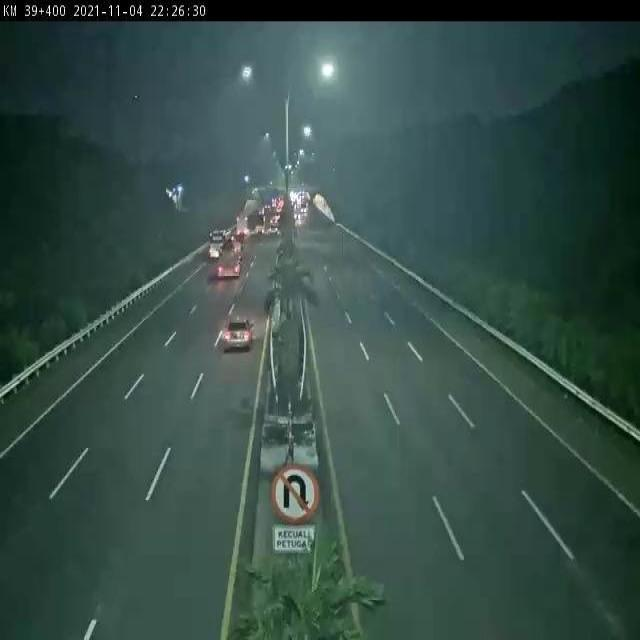Car: (222, 318, 255, 351), (208, 246, 221, 260)
Truck: (216, 250, 242, 280), (222, 236, 244, 260), (234, 214, 248, 238)
